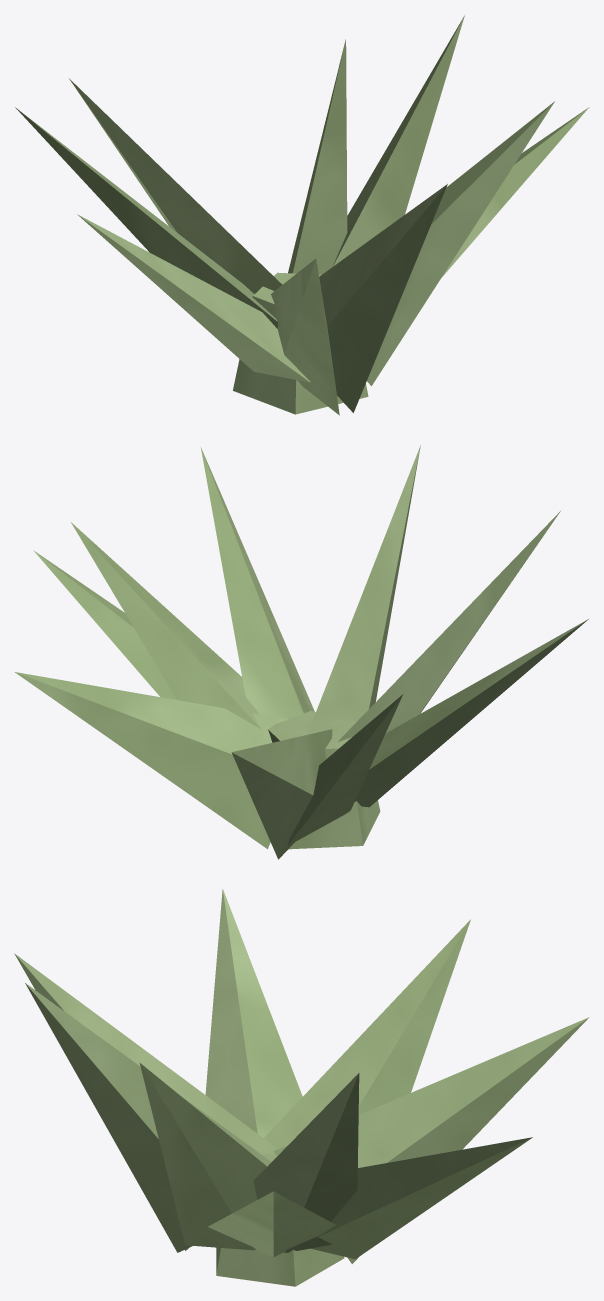
Rendered from sm_crop_herb_3.glb.
3 renders of one model, top to bottom at view 1: azimuth 30°, elevation 25°; view 2: azimuth 150°, elevation 25°; view 3: azimuth 270°, elevation 25°, orthographic.
Visible parts, largest first — view 1: sm_crop_herb_3; view 2: sm_crop_herb_3; view 3: sm_crop_herb_3.
Boxes of the visible parts, x1,y1,x2,y2 form: sm_crop_herb_3: (15, 15, 589, 415); sm_crop_herb_3: (15, 445, 588, 859); sm_crop_herb_3: (14, 889, 589, 1286).
Size of the model in its own units: 0.2328 by 0.1218 by 0.2178.
1 material, 1 textured.
